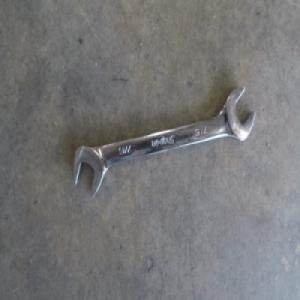Wrench: (73, 85, 256, 198)
